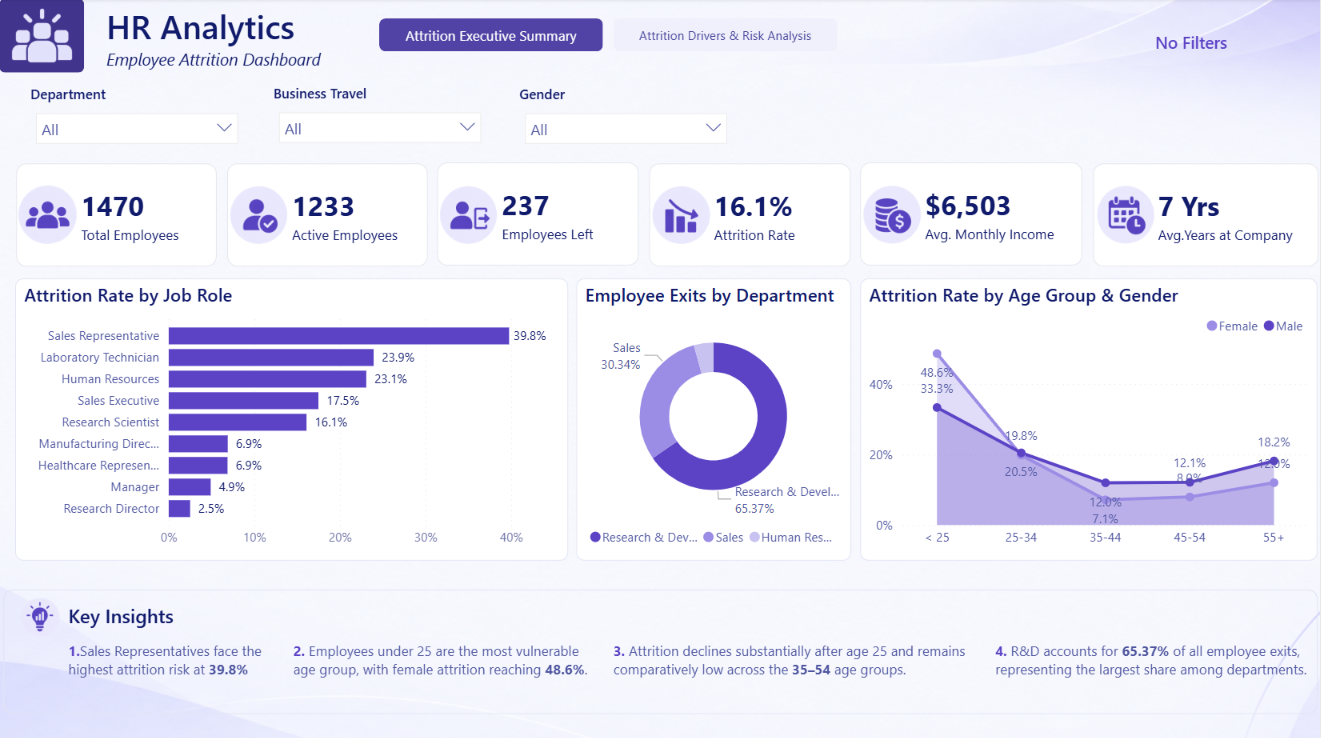

The dashboard page shown, as its layout file describes it:
{"tool":"powerbi","page":{"name":"Attrition Executive Summary","canvas":[1280,720],"ordinal":0},"visuals":[{"type":"slicer","title":"Department","fields":{"Values":["HR-Employee-Attrition.Department"]},"box":[25.6,83.7,216.3,66.3],"z":0},{"type":"cardVisual","title":"Total Employees","fields":{"Data":["HR-Employee-Attrition.attrition_rate"]},"box":[630,160.2,195,100],"z":0,"group":"g4"},{"type":"slicer","title":"Business Travel","fields":{"Values":["HR-Employee-Attrition.BusinessTravel"]},"box":[260.5,82.6,216.3,66.3],"z":1000},{"type":"image","box":[630,159,61.9,101.2],"z":1000,"group":"g4"},{"type":"slicer","title":"Gender","fields":{"Values":["HR-Employee-Attrition.Gender"]},"box":[498.8,83.7,216.3,65.1],"z":2000},{"type":"cardVisual","fields":{"Data":["HR-Employee-Attrition.avg_monthly_income"]},"box":[835,159,215.1,100],"z":3000,"group":"g5"},{"type":"cardVisual","title":"Total Employees","fields":{"Data":["HR-Employee-Attrition.total_employees"]},"box":[16.5,160.2,194.2,100],"z":3000,"group":"g1"},{"type":"donutChart","title":"Employee Exits by Department","fields":{"Category":["HR-Employee-Attrition.Department"],"Y":["CountNonNull(HR-Employee-Attrition.Attrition)"]},"box":[559.3,270.9,266.3,273.3],"z":3000},{"type":"cardVisual","title":"avg company tenure (years)","fields":{"Data":["HR-Employee-Attrition.avg_years_at_company"]},"box":[1060,160.2,218,100],"z":4000,"group":"g6"},{"type":"barChart","title":"Attrition Rate by Job Role","fields":{"Category":["HR-Employee-Attrition.JobRole"],"Y":["HR-Employee-Attrition.attrition_rate"]},"box":[15.1,270.9,536,273.3],"z":4000},{"type":"cardVisual","fields":{"Data":["HR-Employee-Attrition.active_employees"]},"box":[221.2,160.2,194.2,100],"z":5000,"group":"g2"},{"type":"areaChart","title":"Attrition Rate by Age Group & Gender","fields":{"Category":["HR-Employee-Attrition.AgeGroup"],"Y":["HR-Employee-Attrition.attrition_rate"],"Series":["HR-Employee-Attrition.Gender"]},"box":[834.9,270.9,443,273.3],"z":5000},{"type":"textbox","box":[98.8,0,237.2,83.7],"z":6000},{"type":"shape","box":[0,0,82.4,72],"z":7000},{"type":"pageNavigator","box":[368.6,19.8,444.2,32.6],"z":8000},{"type":"shape","box":[3.5,573.3,1274.4,120.9],"z":9000},{"type":"group","id":"g1","title":"Group 1","box":[15.1,159.3,195.3,101.2],"z":10000},{"type":"group","id":"g2","title":"Group 2","box":[220,159,195.3,101.2],"z":11000},{"type":"group","id":"g3","title":"Group 3","box":[425,159,195,101.2],"z":12000},{"type":"group","id":"g4","title":"Group 4","box":[630,159,195,101.2],"z":13000},{"type":"cardVisual","title":"Total Employees","fields":{"Data":["HR-Employee-Attrition.attrition_count"]},"box":[425,159,195,100],"z":14000,"group":"g3"},{"type":"group","id":"g5","title":"Group 5","box":[835,159,215.1,101.2],"z":14000},{"type":"group","id":"g6","title":"Group 6","box":[1060,159,217.4,101.2],"z":15000},{"type":"image","box":[15.1,159.3,62,101],"z":15001,"group":"g1"},{"type":"image","box":[425,159,61.9,101.2],"z":15002,"group":"g3"},{"type":"image","box":[220,159,61.6,101.2],"z":15003,"group":"g2"},{"type":"image","box":[835,159,61.6,101.2],"z":15006,"group":"g5"},{"type":"image","box":[1060,159,61.6,101.2],"z":15007,"group":"g6"},{"type":"image","box":[0,0,82.6,72.1],"z":16000},{"type":"textbox","box":[61.6,580.2,118.6,37.2],"z":17000},{"type":"image","box":[19.8,573.3,41.9,54.7],"z":18000},{"type":"textbox","box":[61.6,618,219.8,77.9],"z":19000},{"type":"textbox","box":[960.5,618.6,317.4,77],"z":20000},{"type":"textbox","box":[590.7,618,369.8,77],"z":21000},{"type":"textbox","box":[280.2,618,310.5,77.9],"z":22000},{"type":"cardVisual","fields":{"Data":["HR-Employee-Attrition.Filter Status"]},"box":[1030.2,0,250,82.6],"z":23000}]}

Visuals, with their boxes in screenshot pixels (x1, y1, x2, y2), scaled from the page's 1280x720 canvas onto the 1321x738 screenshot:
"Department" slicer: [26,86,250,154]
"Total Employees" cardVisual: [650,164,851,267]
"Business Travel" slicer: [269,85,492,153]
image: [650,163,714,267]
"Gender" slicer: [515,86,738,153]
cardVisual - HR-Employee-Attrition.avg_monthly_income: [862,163,1084,265]
"Total Employees" cardVisual: [17,164,217,267]
"Employee Exits by Department" donutChart: [577,278,852,558]
"avg company tenure (years)" cardVisual: [1094,164,1319,267]
"Attrition Rate by Job Role" barChart: [16,278,569,558]
cardVisual - HR-Employee-Attrition.active_employees: [228,164,429,267]
"Attrition Rate by Age Group & Gender" areaChart: [862,278,1319,558]
textbox: [102,0,347,86]
shape: [0,0,85,74]
pageNavigator: [380,20,839,54]
shape: [4,588,1319,712]
"Group 1" group: [16,163,217,267]
"Group 2" group: [227,163,429,267]
"Group 3" group: [439,163,640,267]
"Group 4" group: [650,163,851,267]
"Total Employees" cardVisual: [439,163,640,265]
"Group 5" group: [862,163,1084,267]
"Group 6" group: [1094,163,1318,267]
image: [16,163,80,267]
image: [439,163,502,267]
image: [227,163,291,267]
image: [862,163,925,267]
image: [1094,163,1158,267]
image: [0,0,85,74]
textbox: [64,595,186,633]
image: [20,588,64,644]
textbox: [64,633,290,713]
textbox: [991,634,1319,713]
textbox: [610,633,991,712]
textbox: [289,633,610,713]
cardVisual - HR-Employee-Attrition.Filter Status: [1063,0,1320,85]
